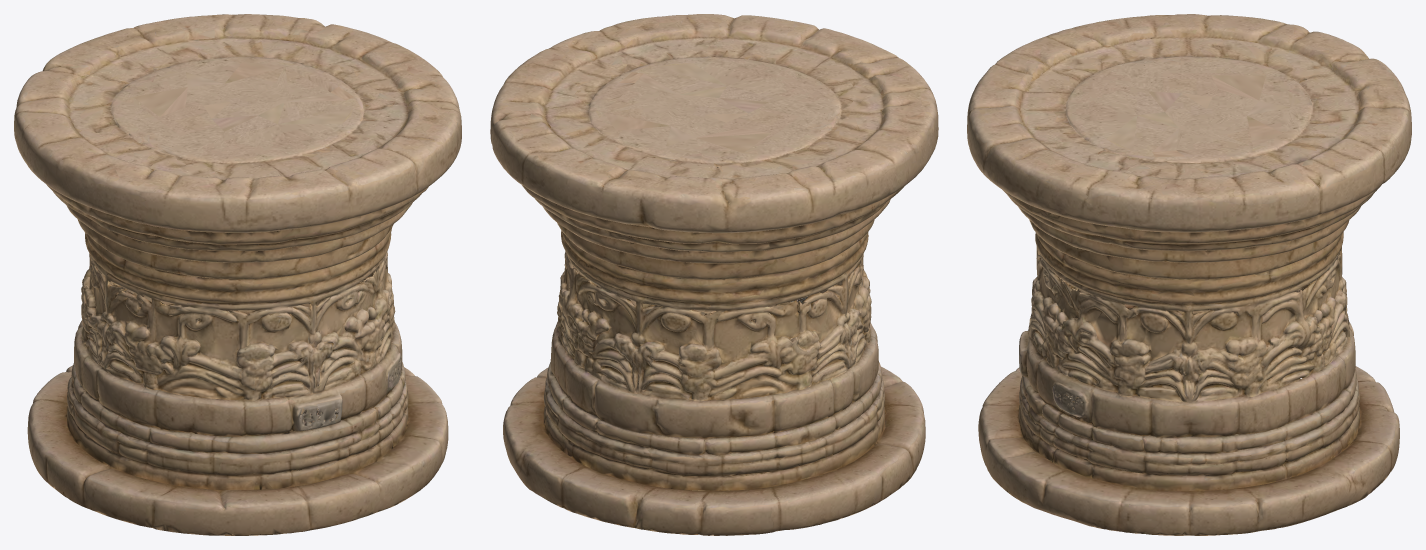
Rendered from offering-pedestal-small-circular-optimized.glb.
The picture shows the model from 3 angles, left to right: view 1: azimuth 30°, elevation 25°; view 2: azimuth 150°, elevation 25°; view 3: azimuth 270°, elevation 25°; orthographic projection.
Parts seen in each view (by area): view 1: world; view 2: world; view 3: world.
Part boxes in pixels (left/top/right/bottom): world: left=14, top=14, right=461, bottom=535; world: left=490, top=14, right=938, bottom=535; world: left=967, top=14, right=1411, bottom=535.
Bounding box in the file's own units: 0.6 × 0.5154 × 0.5984.
1 material, 1 textured.
